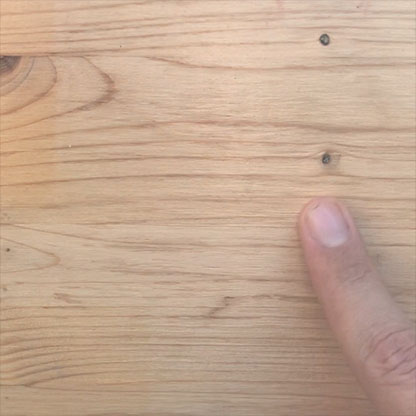fingertip: (289, 186, 367, 268)
